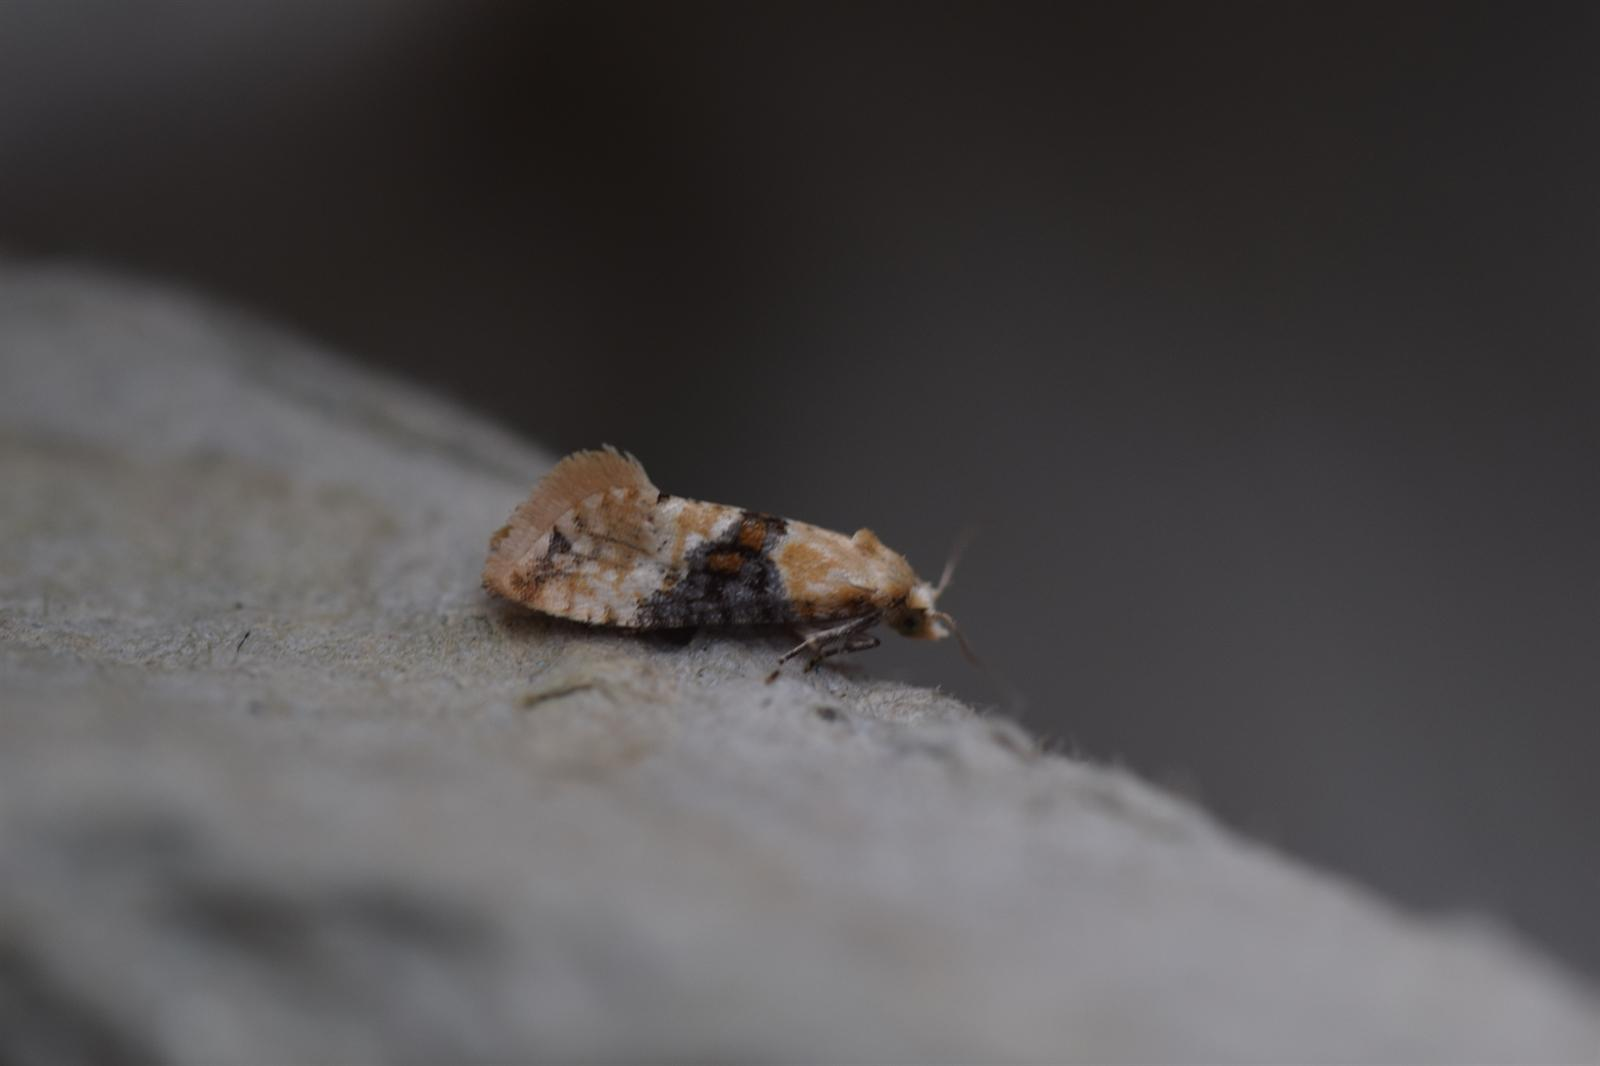Eupoecilia Ambiguella: (473, 435, 990, 692)
